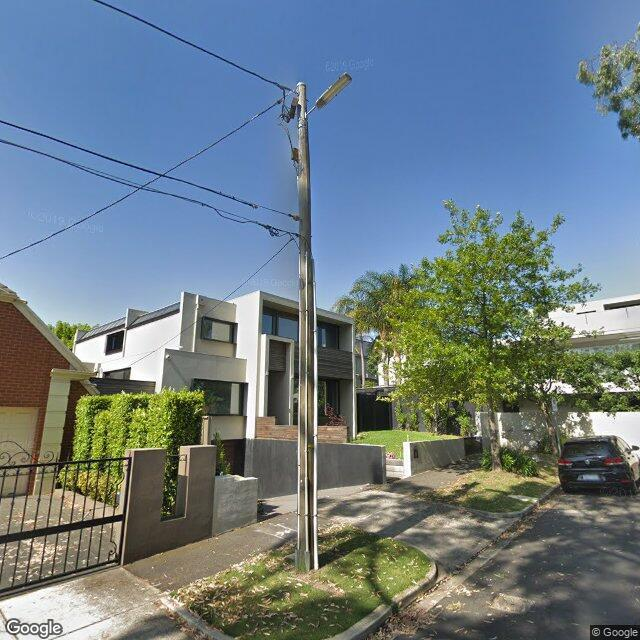streetlight: (304, 72, 354, 120)
timber-pole: (297, 83, 318, 571)
